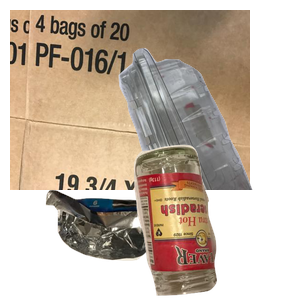cardboard: (10, 10, 250, 190)
glass: (131, 142, 300, 300)
plastic: (71, 45, 300, 225)
trash: (43, 187, 234, 300)
